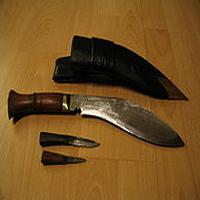knife: (4, 81, 194, 150)
